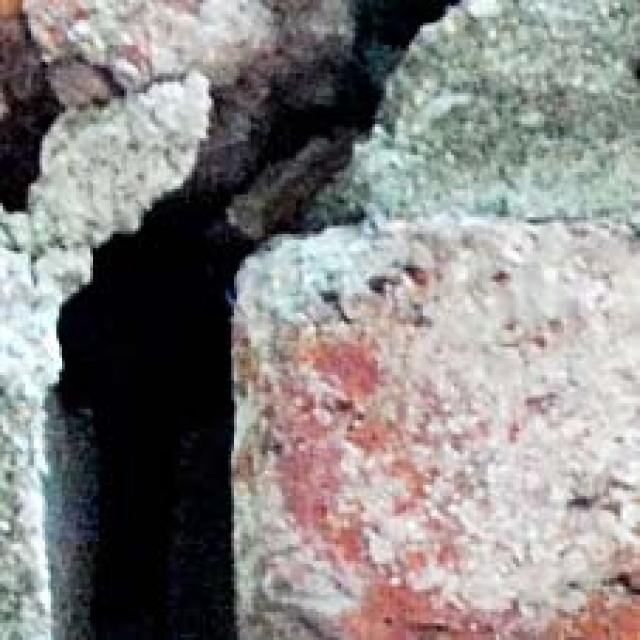Crack: (35, 0, 468, 640)
